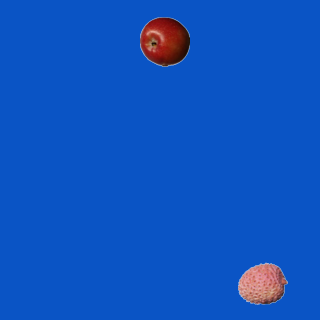Apple Braeburn: (139, 16, 189, 66)
Lychee: (237, 258, 287, 308)
